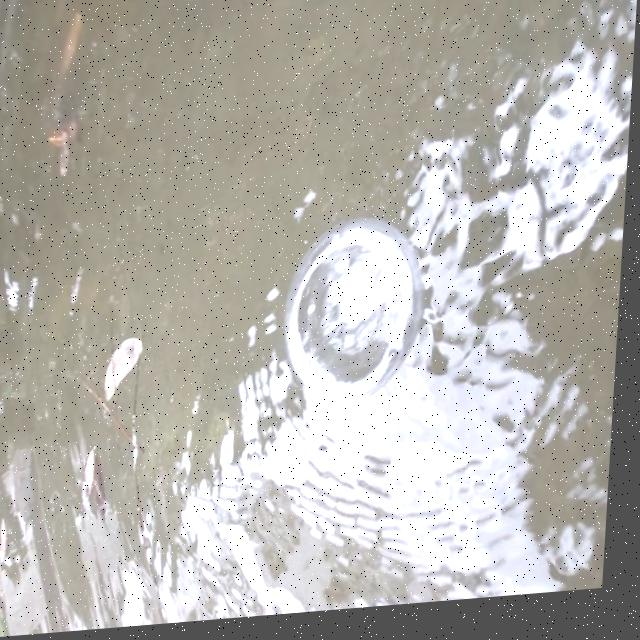leaf: (85, 319, 162, 413), (75, 441, 142, 532), (34, 106, 98, 184)
waterbottle: (282, 198, 432, 448)
